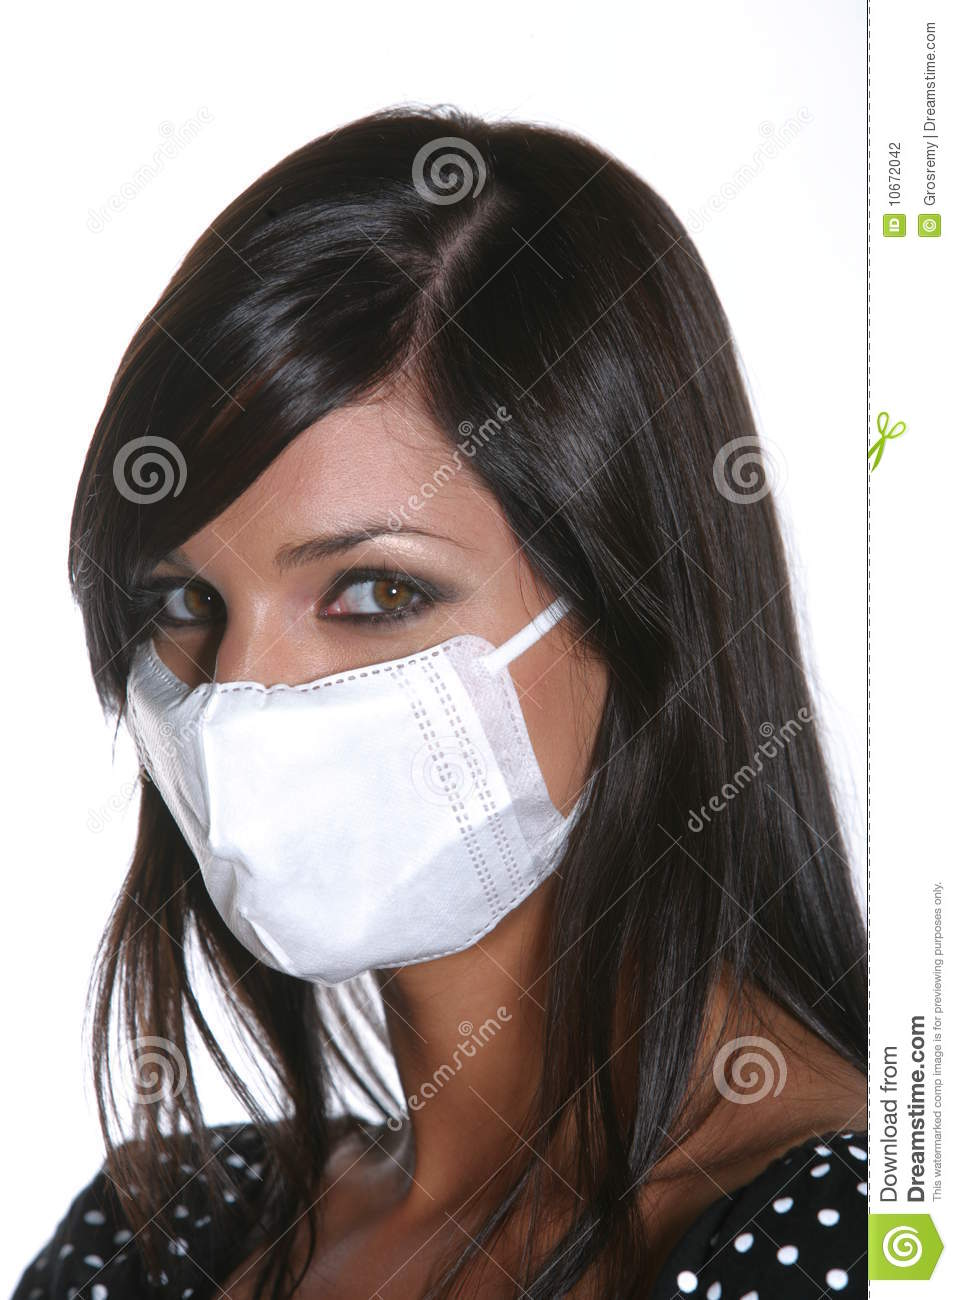mask: (102, 637, 594, 1015)
